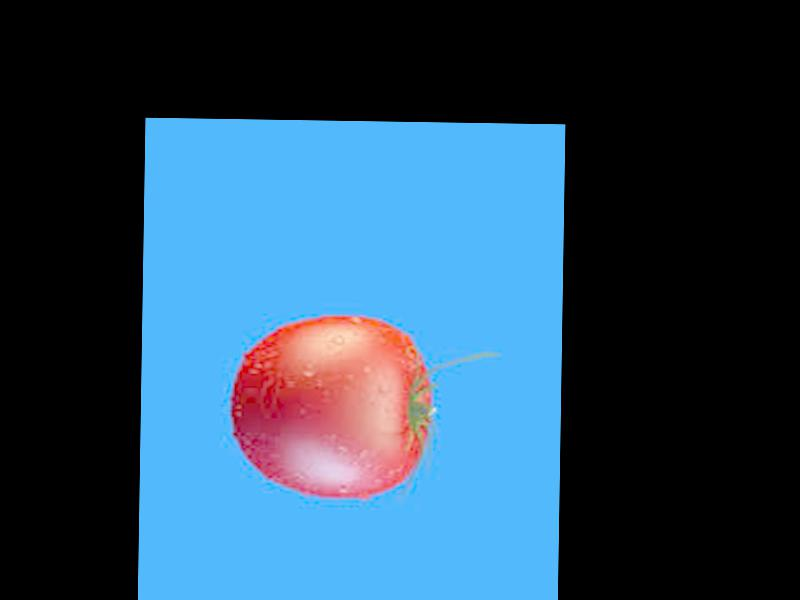Tomato: (229, 313, 434, 501)
